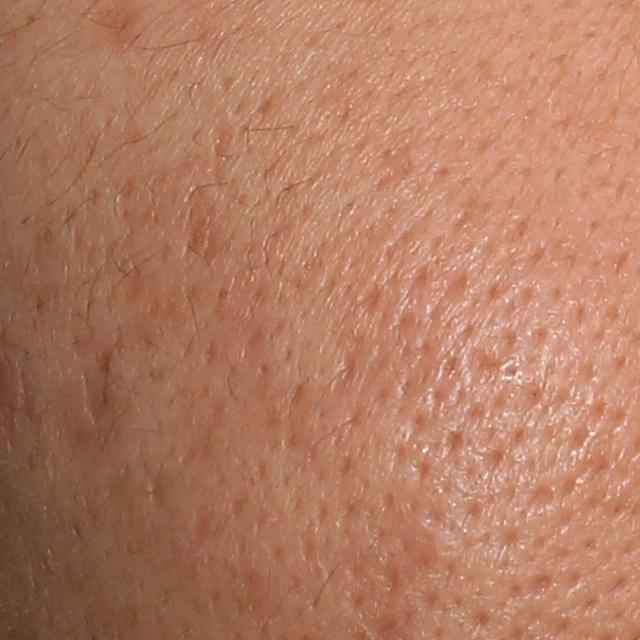atrophic_scar: (181, 186, 219, 268), (77, 349, 112, 425), (460, 344, 506, 395), (335, 334, 364, 395), (141, 466, 170, 511), (357, 280, 386, 317)
